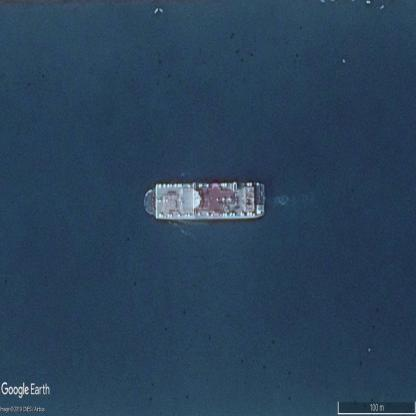ship: (144, 182, 267, 224)
